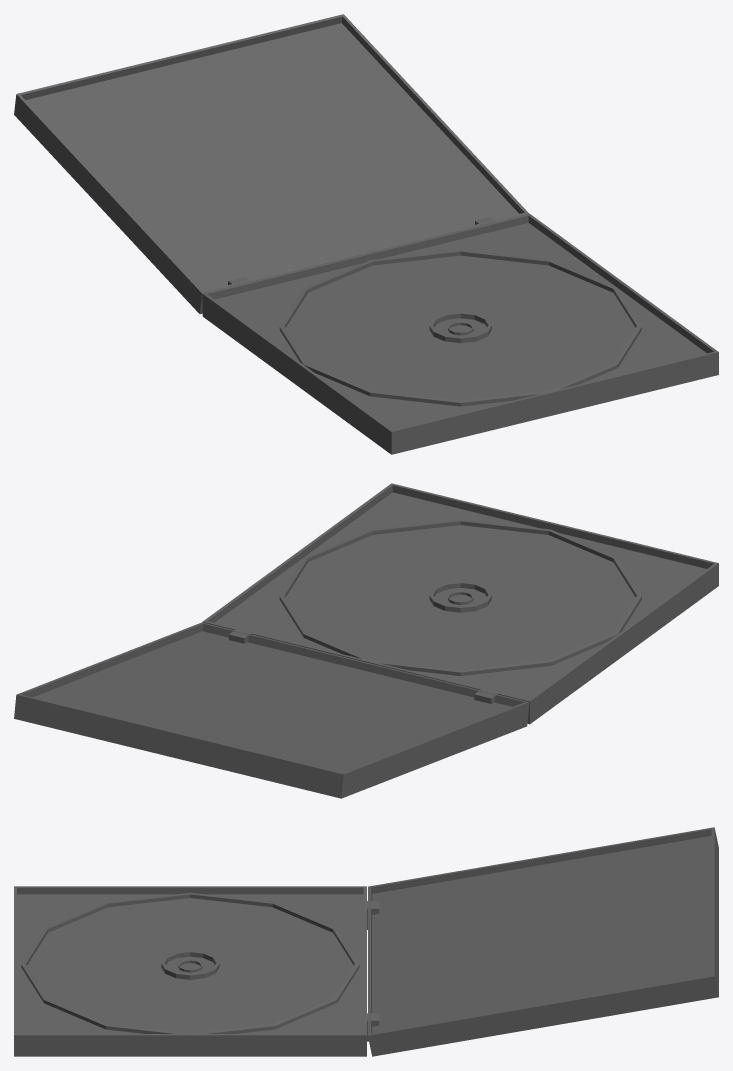
The model's file is DVD.fbx.
3 views of the same model, one above another, from view 1: azimuth 30°, elevation 25°; view 2: azimuth 150°, elevation 25°; view 3: azimuth 270°, elevation 25° (orthographic). The views are drawn at different scales.
Visible parts, largest first — view 1: dvd; view 2: dvd; view 3: dvd.
Boxes of the visible parts, x1,y1,x2,y2 form: dvd: (14,14,718,454); dvd: (14,483,718,798); dvd: (14,827,718,1056).
Size of the model in its own units: 200 by 50.3 by 400.
Materials: 1 (1 with a texture image).
